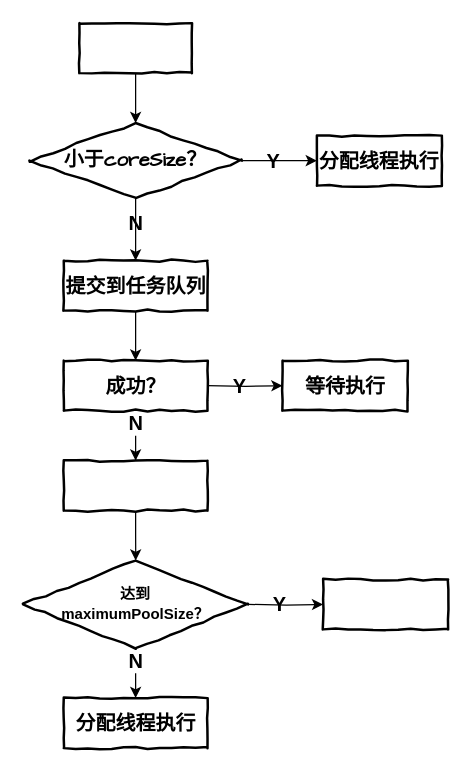
The diagram is 470 pixels wide and 770 high, and some of its shapes have lost their labels. Each missing label, with the box of its shape:
任务提交: (78, 21, 192, 74)
执行拒绝策略: (321, 578, 449, 630)
提交线程池: (62, 459, 208, 511)
